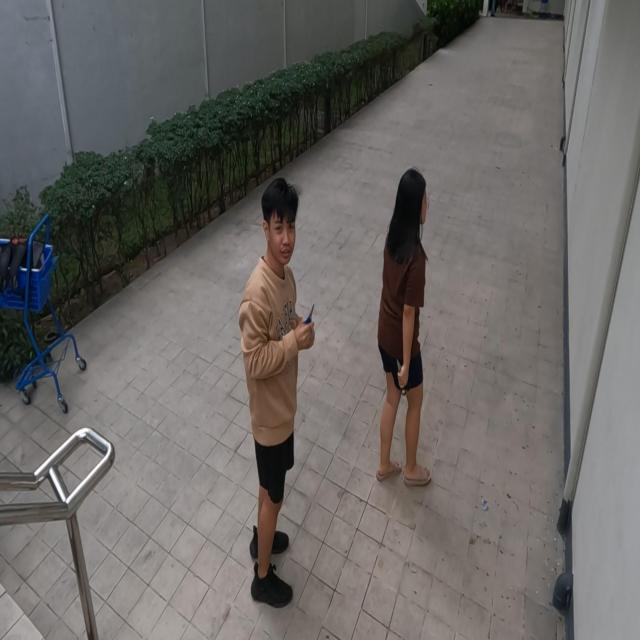scissor: (396, 358, 411, 396), (303, 303, 315, 324)
